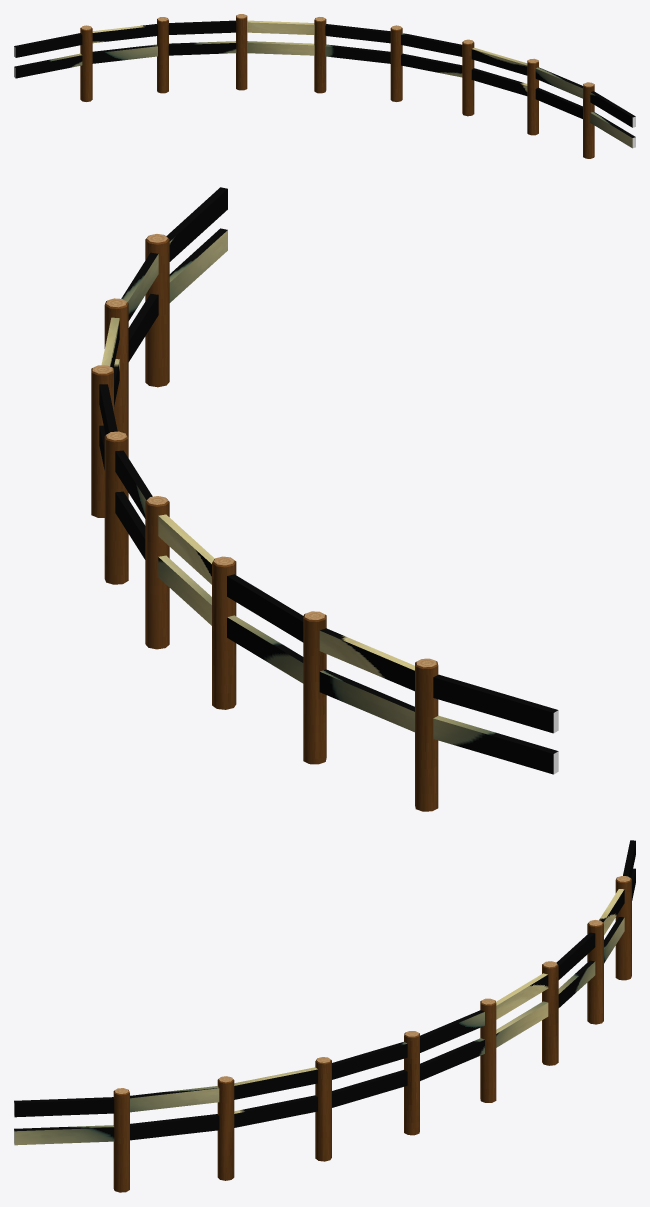
File: Path_Fence_Curve_5x5.fbx
3 renders of one model, top to bottom at view 1: azimuth 30°, elevation 25°; view 2: azimuth 150°, elevation 25°; view 3: azimuth 270°, elevation 25°, orthographic. The views are drawn at different scales.
Visible parts, largest first — view 1: Path_Fence_Curve_5x5; view 2: Path_Fence_Curve_5x5; view 3: Path_Fence_Curve_5x5.
Boxes of the visible parts, x1=… form: Path_Fence_Curve_5x5: x1=14, y1=14, x2=635, y2=158; Path_Fence_Curve_5x5: x1=91, y1=187, x2=558, y2=811; Path_Fence_Curve_5x5: x1=14, y1=840, x2=635, y2=1192.
Bounding box in the file's own units: 503 × 87.5 × 503.
